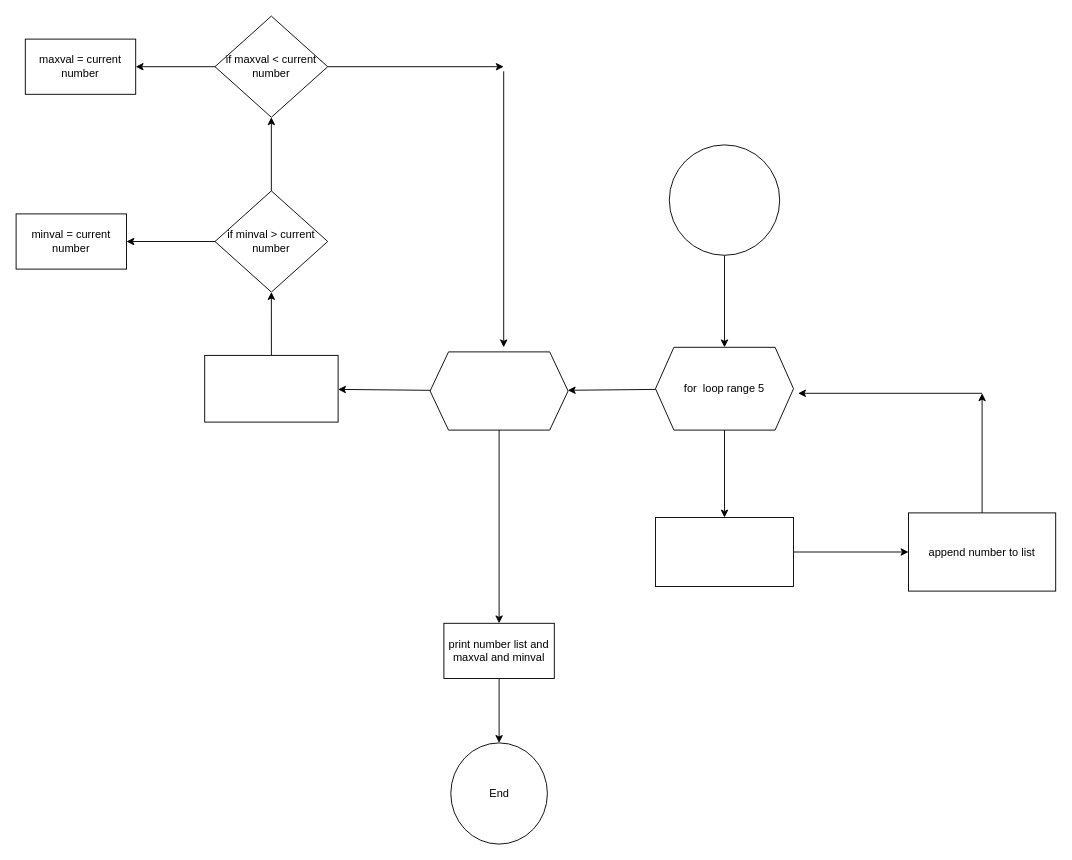
This 1072x860 diagram has some shape labels left out. The shapes that lost their labels are listed below. From the top down, each one's centre as x and y in pixels, then its label:
the point at 724,199: Start
the point at 271,388: set minval and maxval to first number in list
the point at 498,390: for loop range numbers (list)
the point at 724,551: user inputs number
